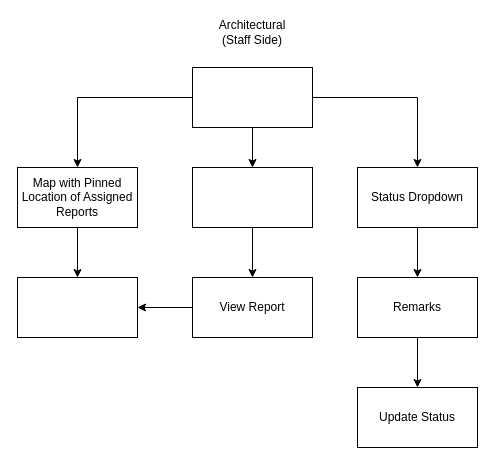
Some shapes in this 495 by 465 pixel diagram are drawn without their labels. Each missing label, with the centre of its shape:
"List of Assigned Reports" goes at point 252,197.
"Report Details" goes at point 77,307.
"Staff Dashboard" goes at point 252,97.
